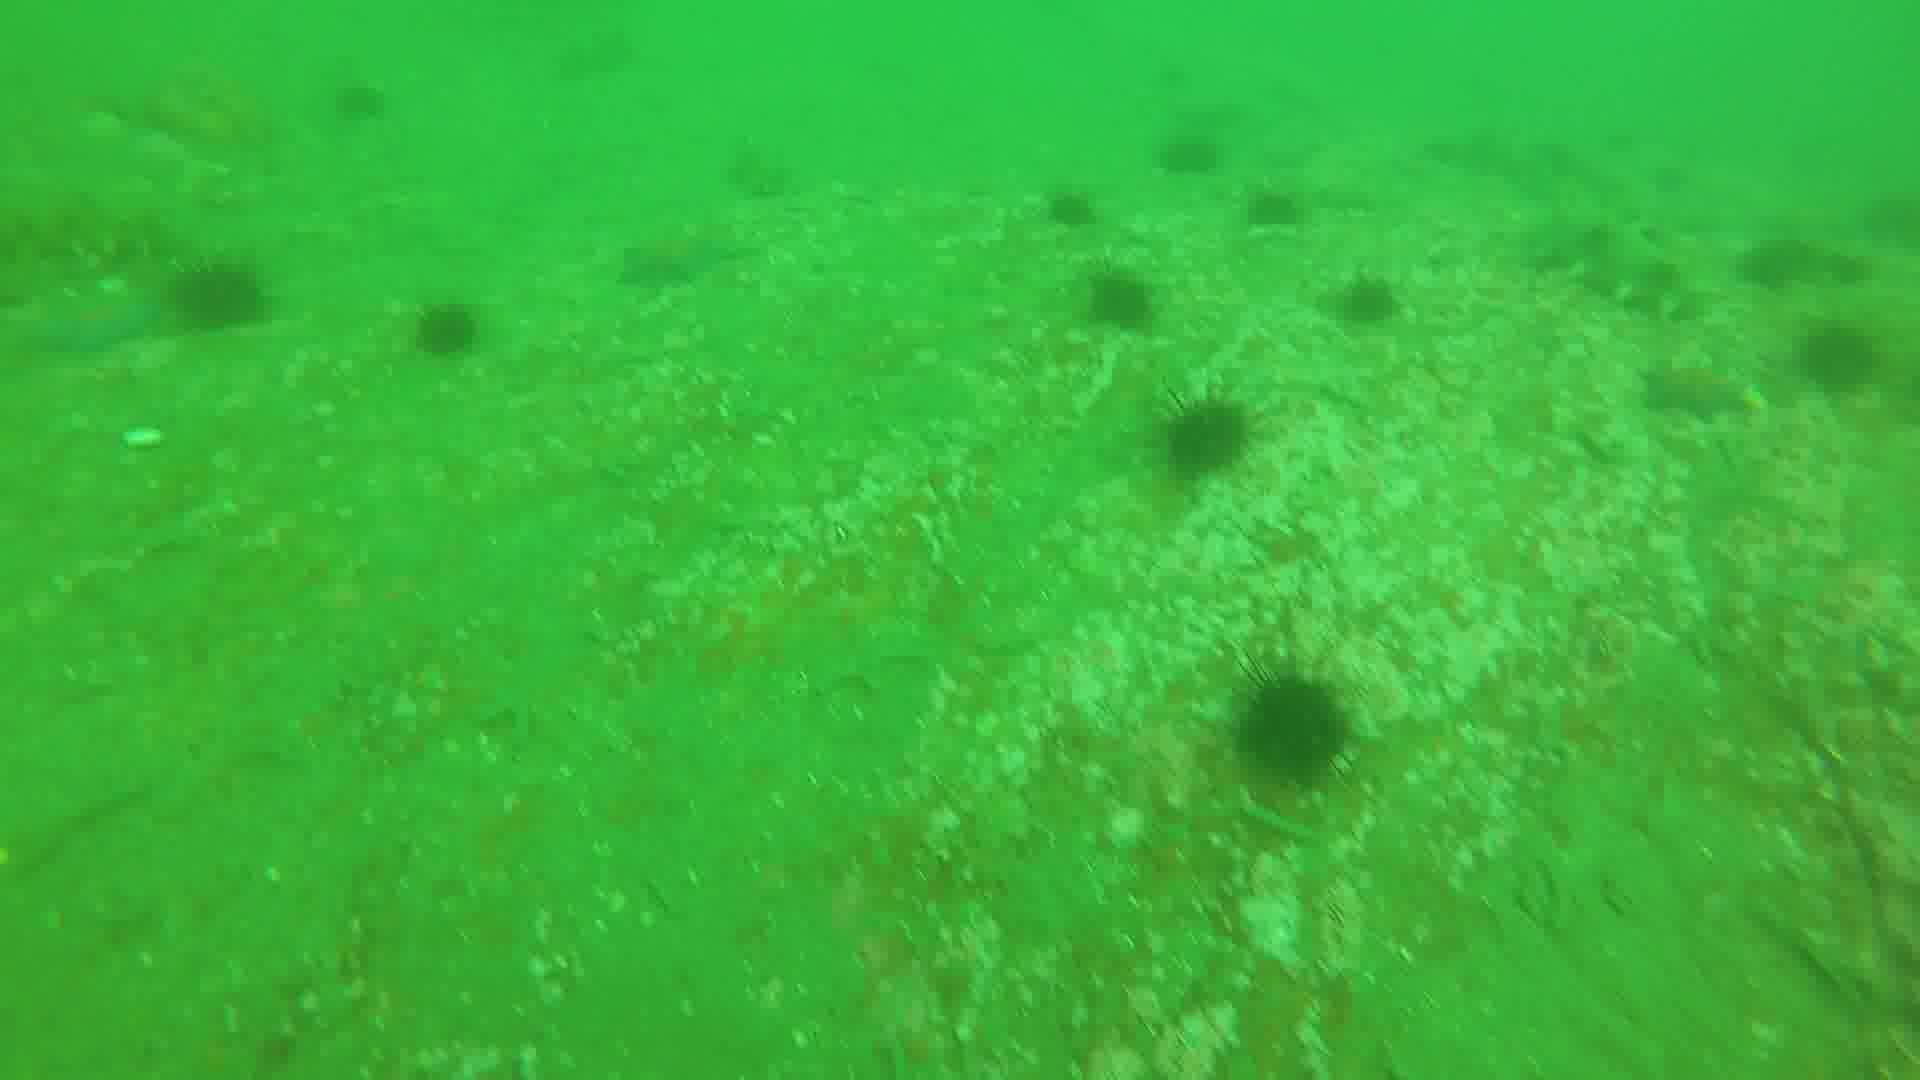echinus: (1251, 675, 1358, 793), (1164, 389, 1257, 481), (167, 270, 280, 327), (1804, 319, 1887, 394), (1092, 269, 1158, 339), (1751, 240, 1824, 290), (1338, 274, 1407, 324), (411, 309, 481, 357), (1249, 185, 1305, 231), (1039, 189, 1096, 235), (1164, 142, 1218, 189)
holothurian: (1524, 204, 1716, 309), (723, 148, 799, 198)
starfish: (49, 290, 167, 345), (1631, 361, 1753, 415), (626, 239, 760, 286)
